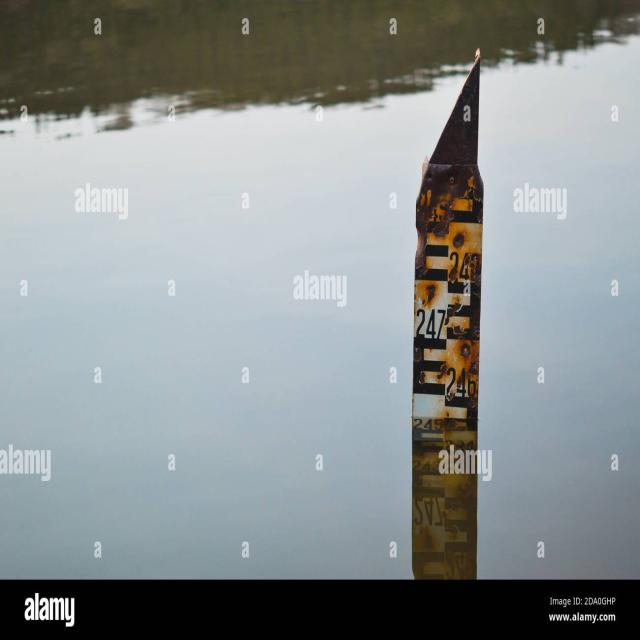ruler: (401, 153, 489, 427), (444, 364, 480, 399), (446, 249, 481, 284), (414, 305, 448, 340)
